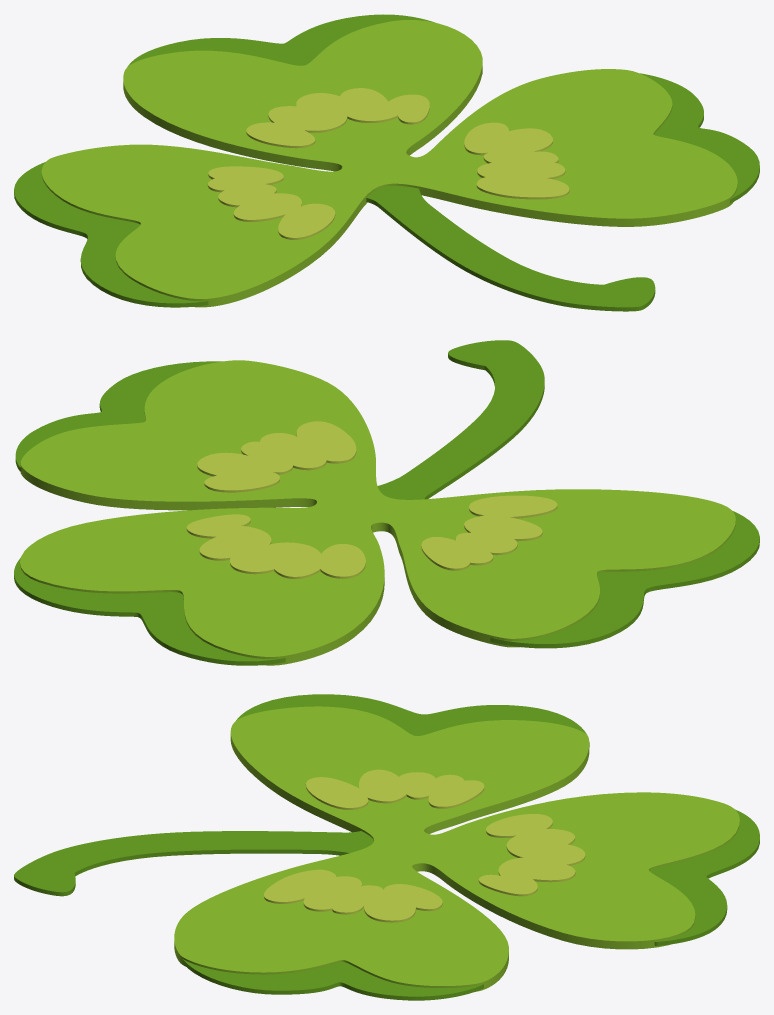
The model's file is emoji_u2618.glb.
The picture shows the model from 3 angles, top to bottom: view 1: azimuth 30°, elevation 25°; view 2: azimuth 150°, elevation 25°; view 3: azimuth 270°, elevation 25°; orthographic projection. The views are drawn at different scales.
Parts seen in each view (by area): view 1: emoji_u2618; view 2: emoji_u2618; view 3: emoji_u2618.
Boxes of the visible parts, <box> form: emoji_u2618: <box>14,14,759,311</box>; emoji_u2618: <box>14,340,759,665</box>; emoji_u2618: <box>14,694,759,1000</box>.
Size of the model in its own units: 0.0324 by 0.0006 by 0.0338.
